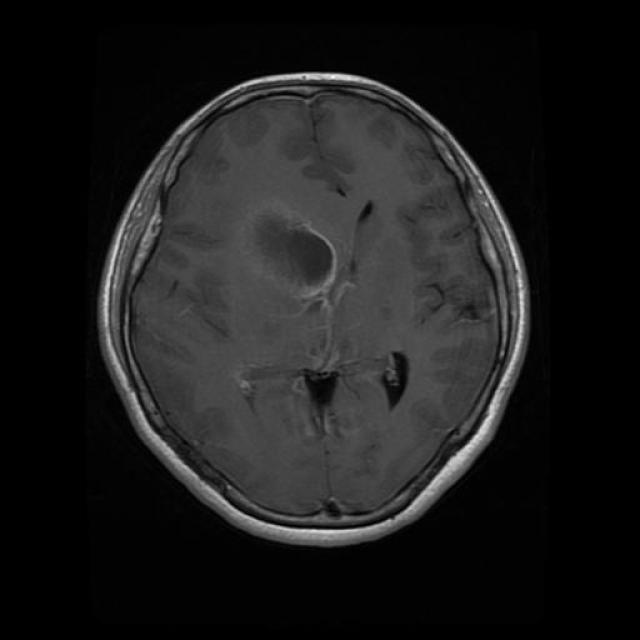glioma: (228, 192, 342, 320)
